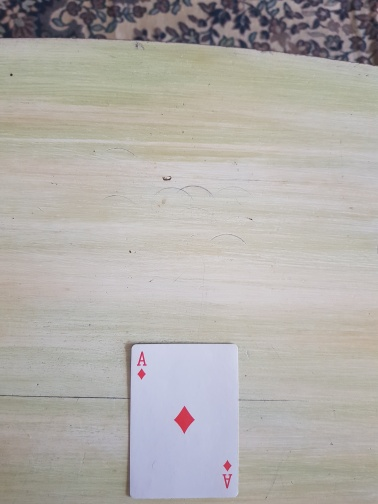ace: (128, 343, 241, 500)
